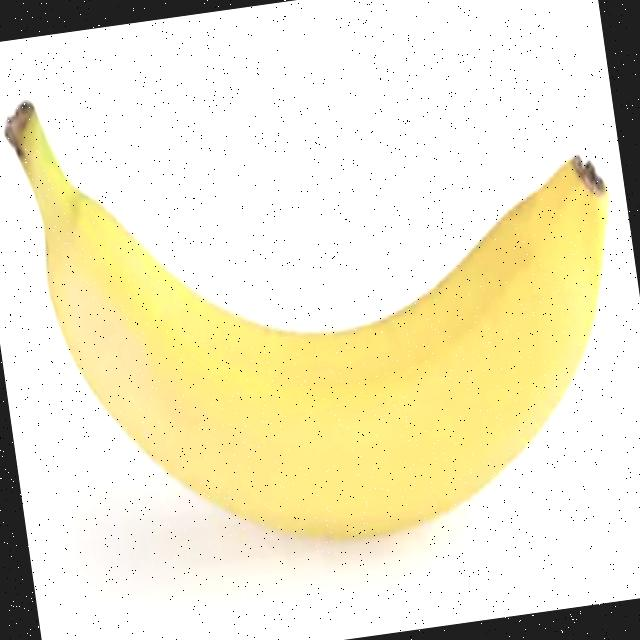Ripe: (0, 5, 640, 586)
